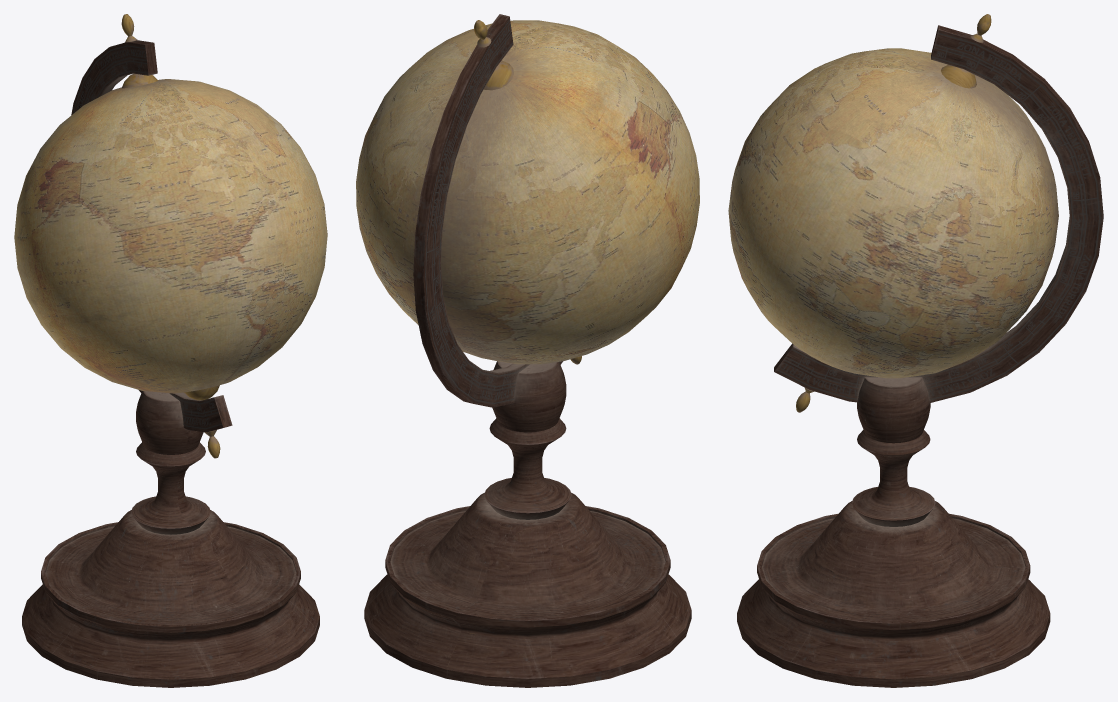
File: wooden_globe.glb
3 views of the same model, side by side, from view 1: azimuth 30°, elevation 25°; view 2: azimuth 150°, elevation 25°; view 3: azimuth 270°, elevation 25° (orthographic). The views are drawn at different scales.
Visible parts, largest first — view 1: Sphere_low; view 2: Sphere_low; view 3: Sphere_low.
Part boxes in pixels (bbox=[...]): Sphere_low: bbox=[14, 14, 327, 687]; Sphere_low: bbox=[356, 14, 699, 687]; Sphere_low: bbox=[728, 14, 1103, 687].
Bounding box in the file's own units: 0.4274 × 0.8664 × 0.4849.
Materials: 1 (1 with a texture image).
